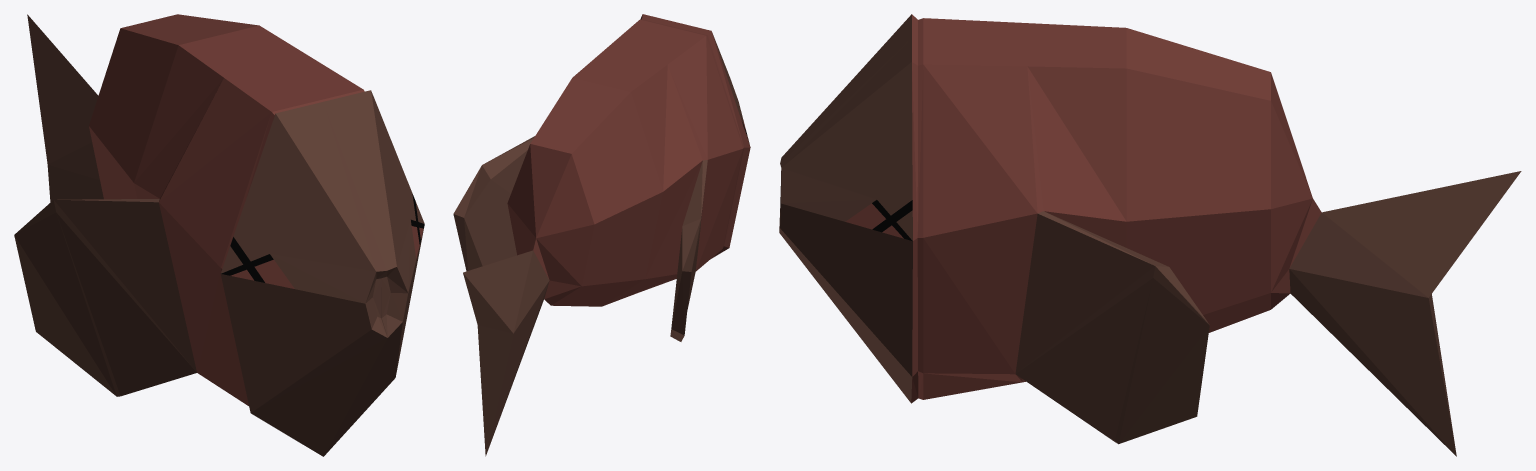
Rendered from Ab_DeadFish_A.FBX.
The picture shows the model from 3 angles, left to right: view 1: azimuth 30°, elevation 25°; view 2: azimuth 150°, elevation 25°; view 3: azimuth 270°, elevation 25°; orthographic projection. The views are drawn at different scales.
Visible parts, largest first — view 1: Sphere001; view 2: Sphere001; view 3: Sphere001.
Boxes of the visible parts, <box> form: Sphere001: <box>14,14,424,456</box>; Sphere001: <box>453,14,750,456</box>; Sphere001: <box>779,14,1521,456</box>.
Bounding box in the file's own units: 92.49 × 109 × 176.
